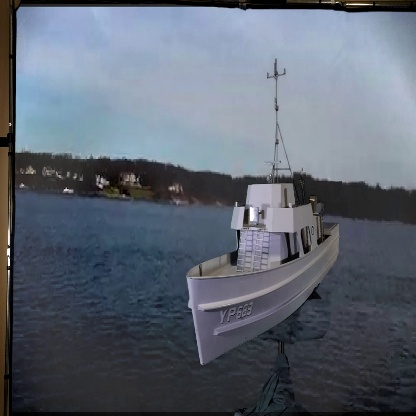YP689: (188, 56, 339, 367)
